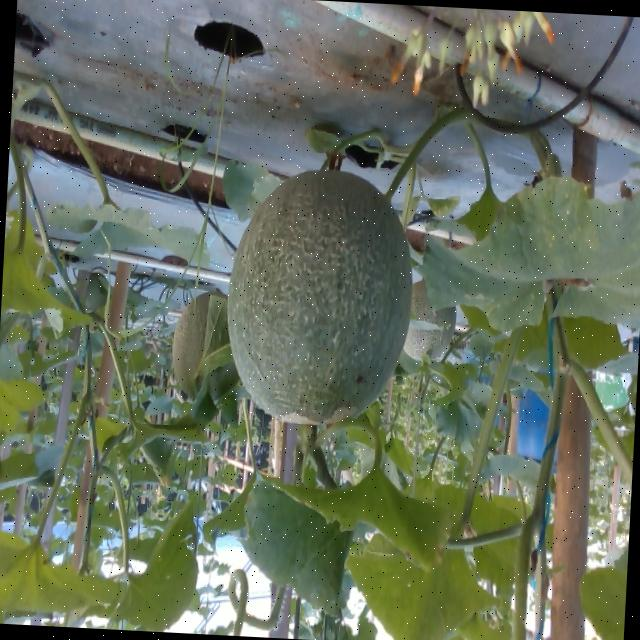melon: (225, 168, 411, 424)
